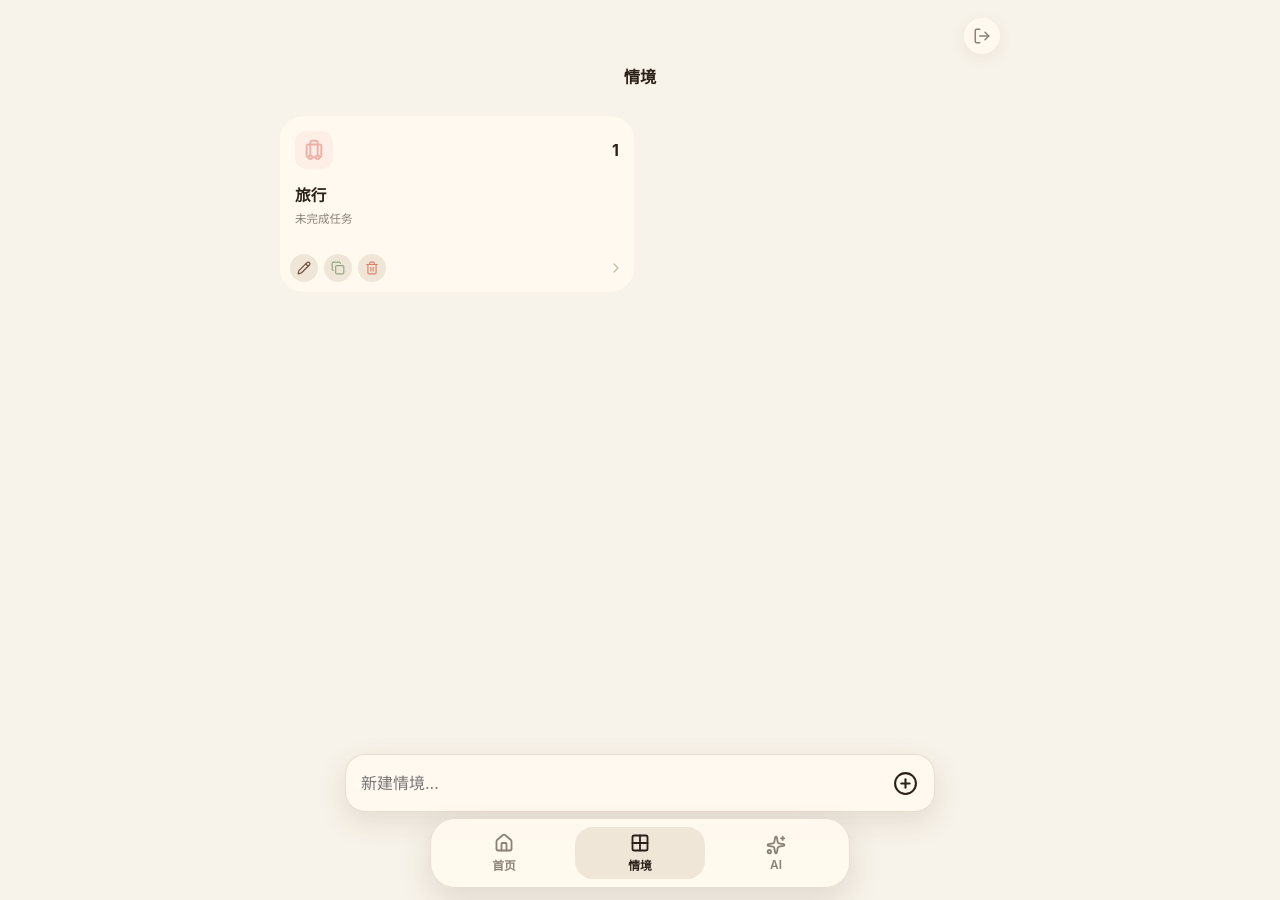
Test case: contexts interface › uses the iPhone-style bottom input to create and edit a context
Expected: the button "新建情境" is not shown
Click the button named "添加情境".
click(905, 783)  # box [884,762,926,804]
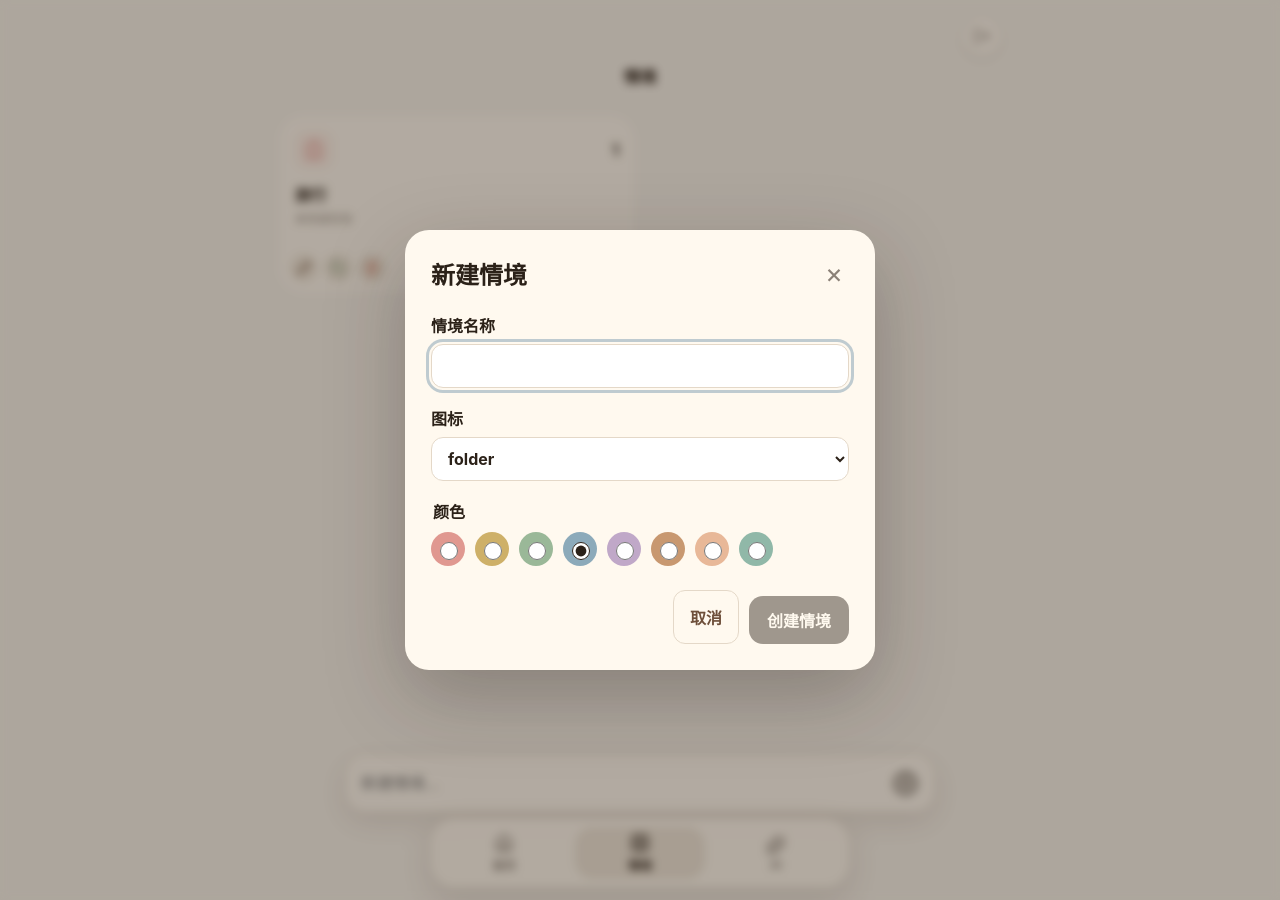
Result: the dialog "新建情境" is shown at [405,230,875,670]
Result: the 4th radio button named "#8CAABA" is checked at [572,542,590,560]
Click the button "取消".
click(706, 617)  # box [673,590,739,644]
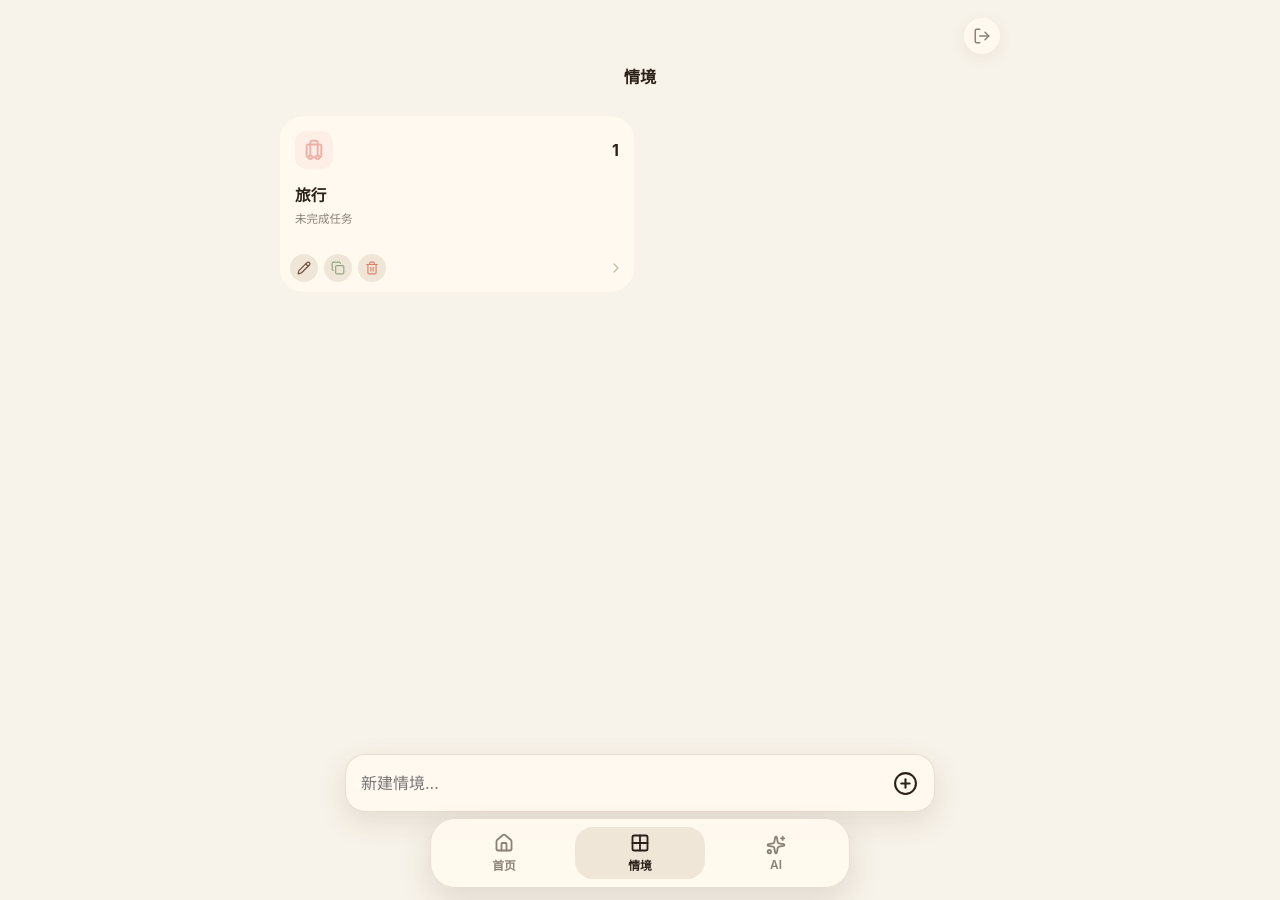
Type "工作" into the field named "快速新建情境".
click(618, 783); type("工作")  # box [361,762,876,804]
Click the button named "添加情境".
click(905, 783)  # box [884,762,926,804]
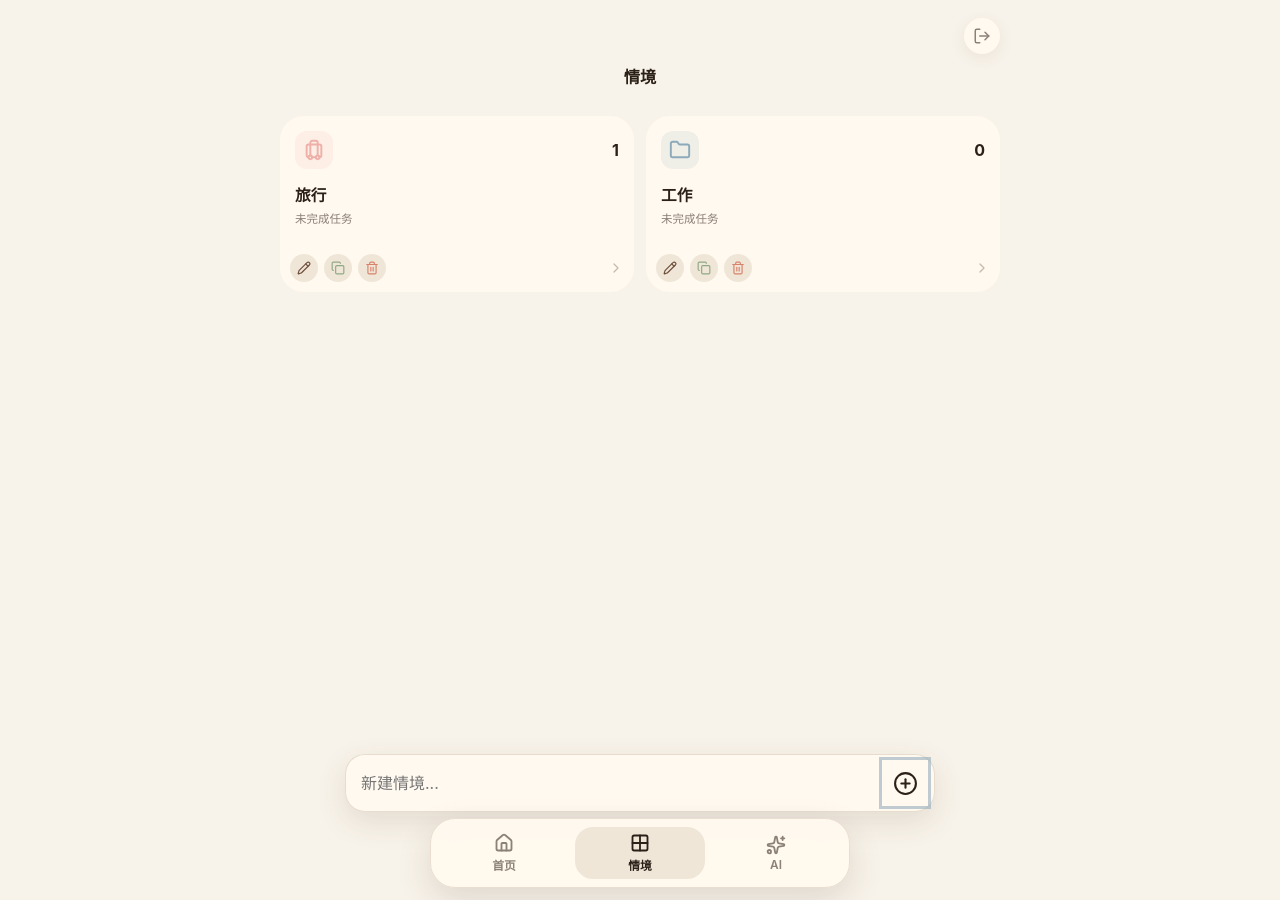
Result: the link "0 工作 未完成任务" is shown at [646,116,1000,268]
Click the button named "编辑 工作".
click(670, 268)  # box [656,254,684,282]
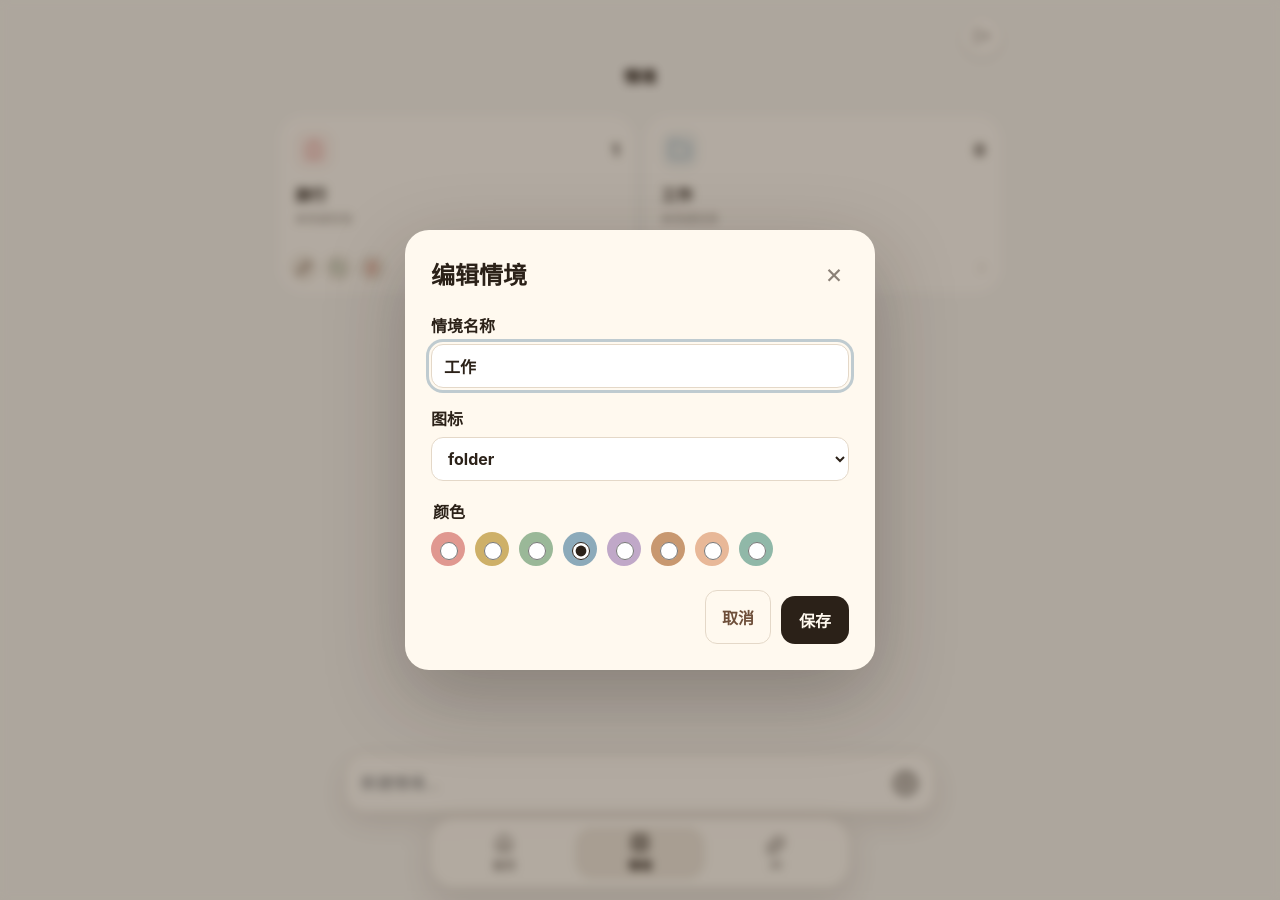
Replace the text in the field labelled "情境名称" with "客户项目" at (640,366), box [431,344,849,388]
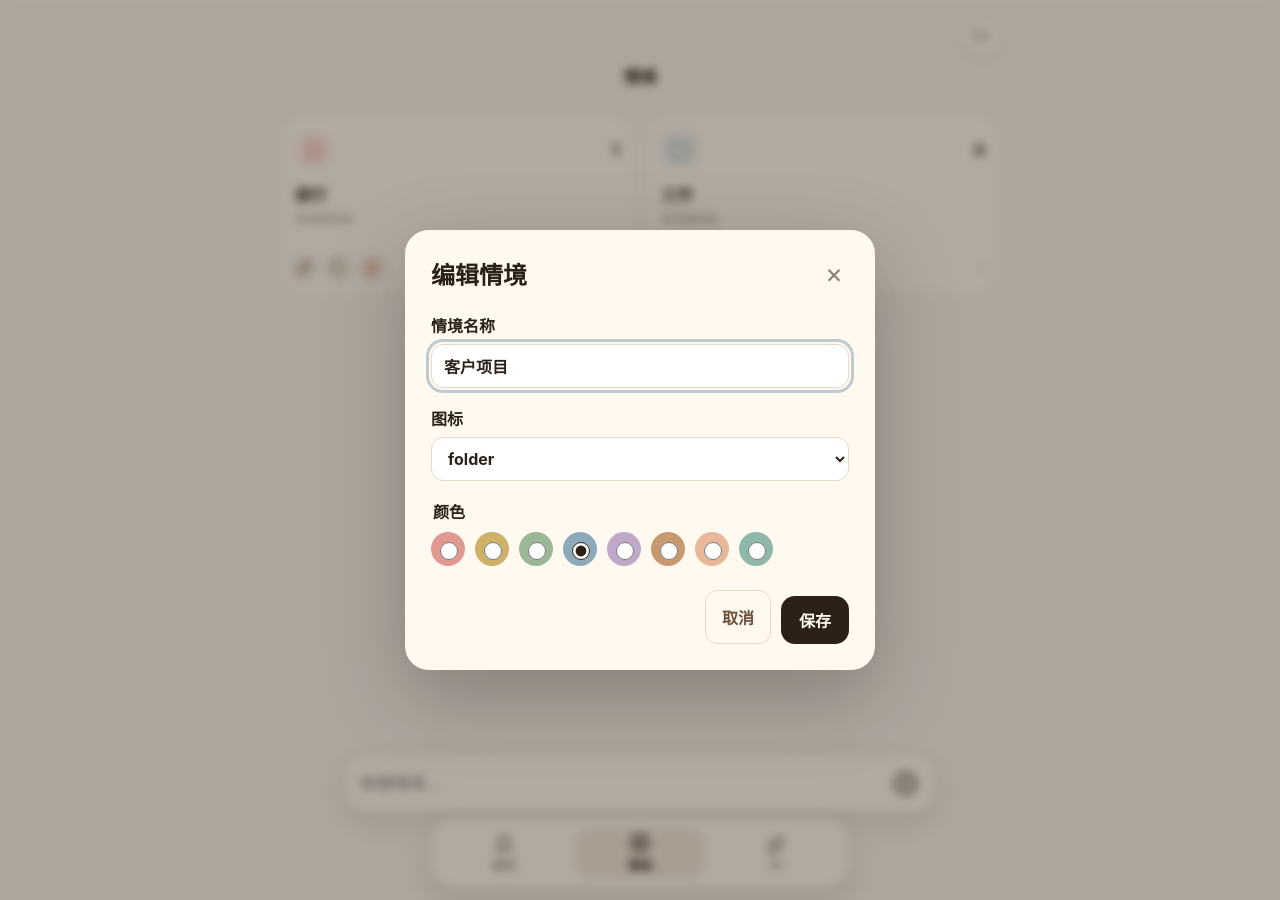
Click the button "保存".
click(815, 620)  # box [781,596,849,644]
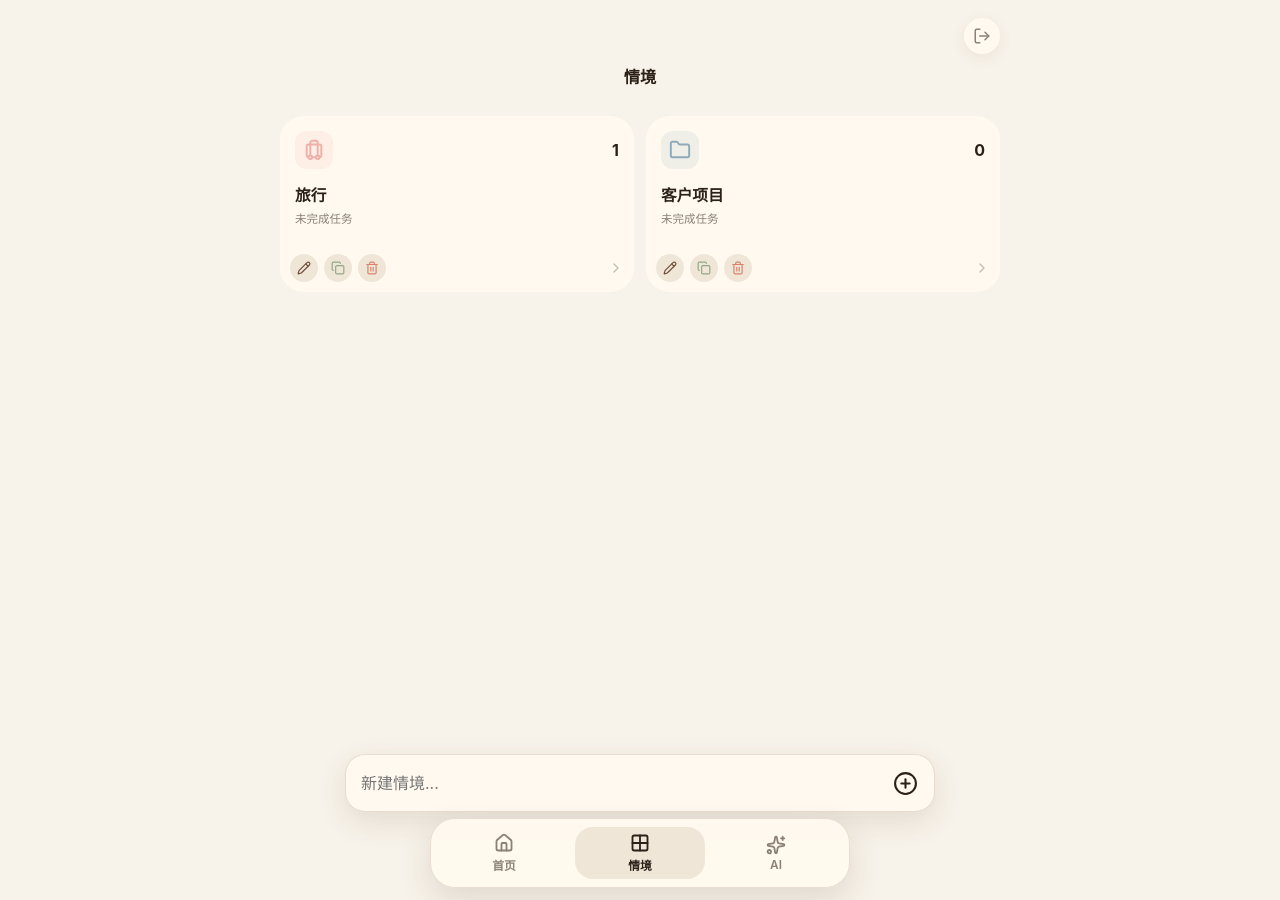
Result: the link "0 客户项目 未完成任务" is shown at [646,116,1000,268]
